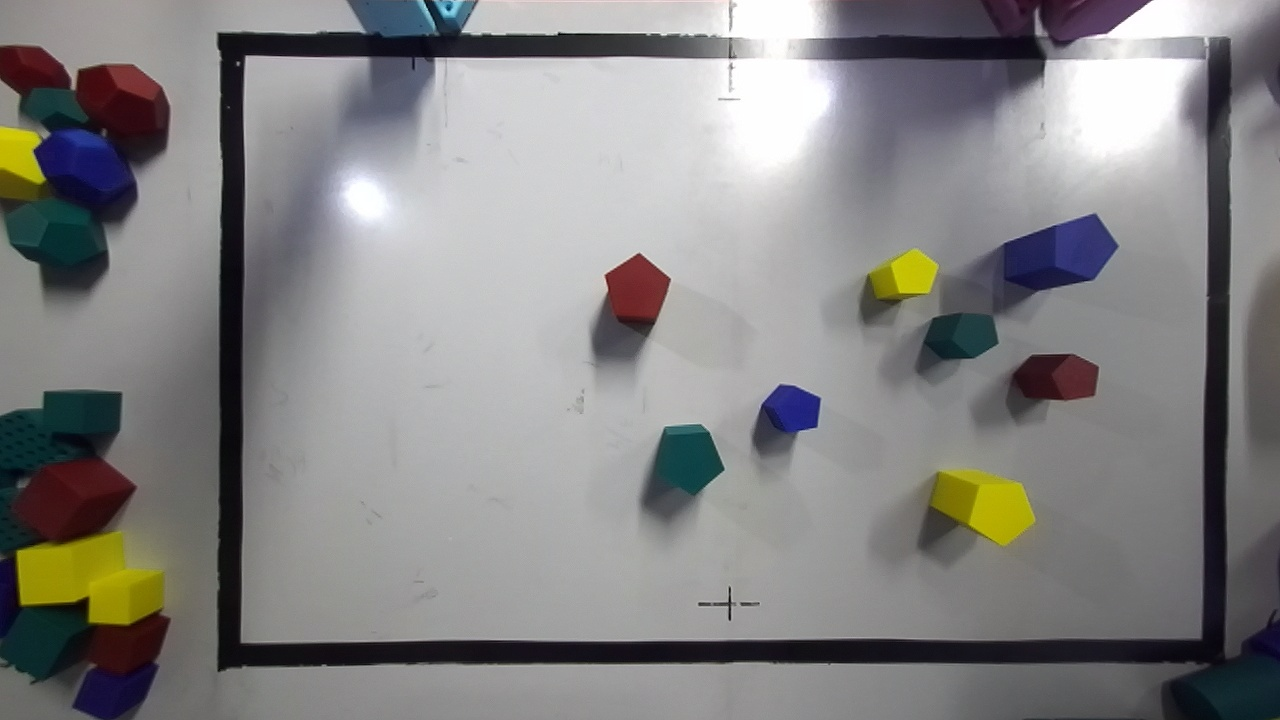hexagonal: (1004, 214, 1117, 289), (930, 469, 1034, 545), (655, 424, 724, 495), (604, 253, 670, 323), (1013, 354, 1098, 400), (869, 249, 938, 299), (924, 313, 998, 358), (761, 384, 820, 432)
